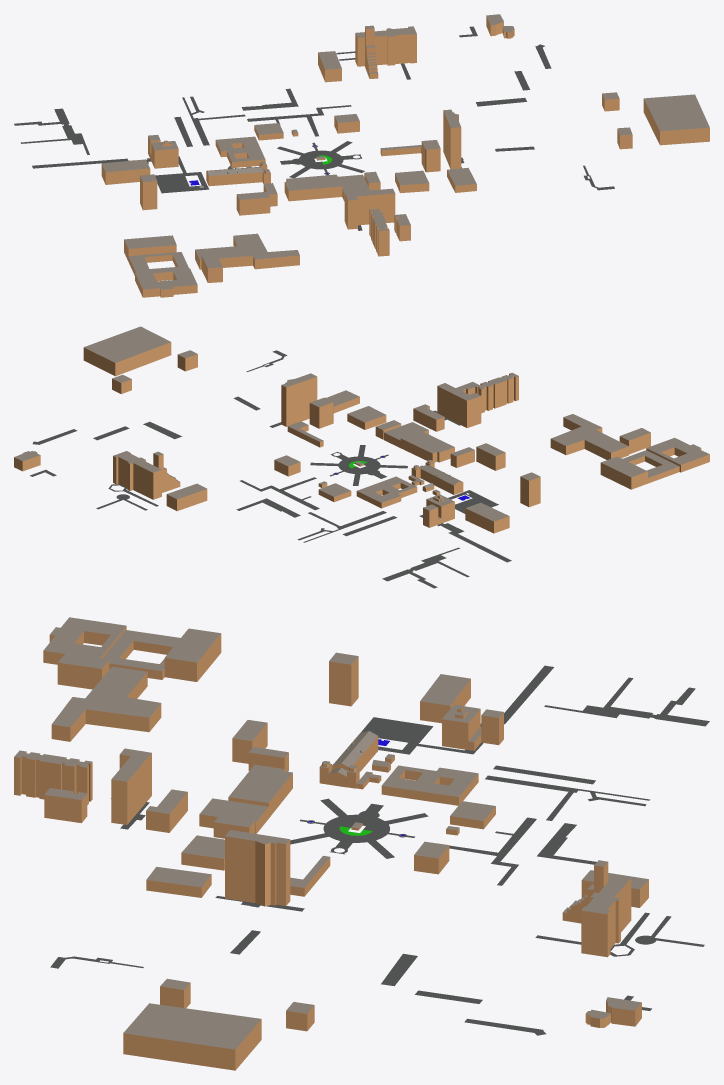
File: Centro2.gltf
The picture shows the model from 3 angles, top to bottom: view 1: azimuth 30°, elevation 25°; view 2: azimuth 150°, elevation 25°; view 3: azimuth 270°, elevation 25°; orthographic projection. The views are drawn at different scales.
Parts seen in each view (by area): view 1: map.osm_buildings, map.osm_areas_pedestrian; view 2: map.osm_buildings, map.osm_areas_pedestrian; view 3: map.osm_buildings, map.osm_areas_pedestrian.
Boxes of the visible parts, left/top/right/bottom form: map.osm_buildings: left=101, top=14, right=709, bottom=297; map.osm_areas_pedestrian: left=14, top=26, right=614, bottom=230; map.osm_buildings: left=14, top=326, right=709, bottom=533; map.osm_areas_pedestrian: left=30, top=350, right=511, bottom=588; map.osm_buildings: left=14, top=617, right=648, bottom=1070; map.osm_areas_pedestrian: left=50, top=665, right=709, bottom=1035.
Size of the model in its own units: 817 by 53.64 by 544.
